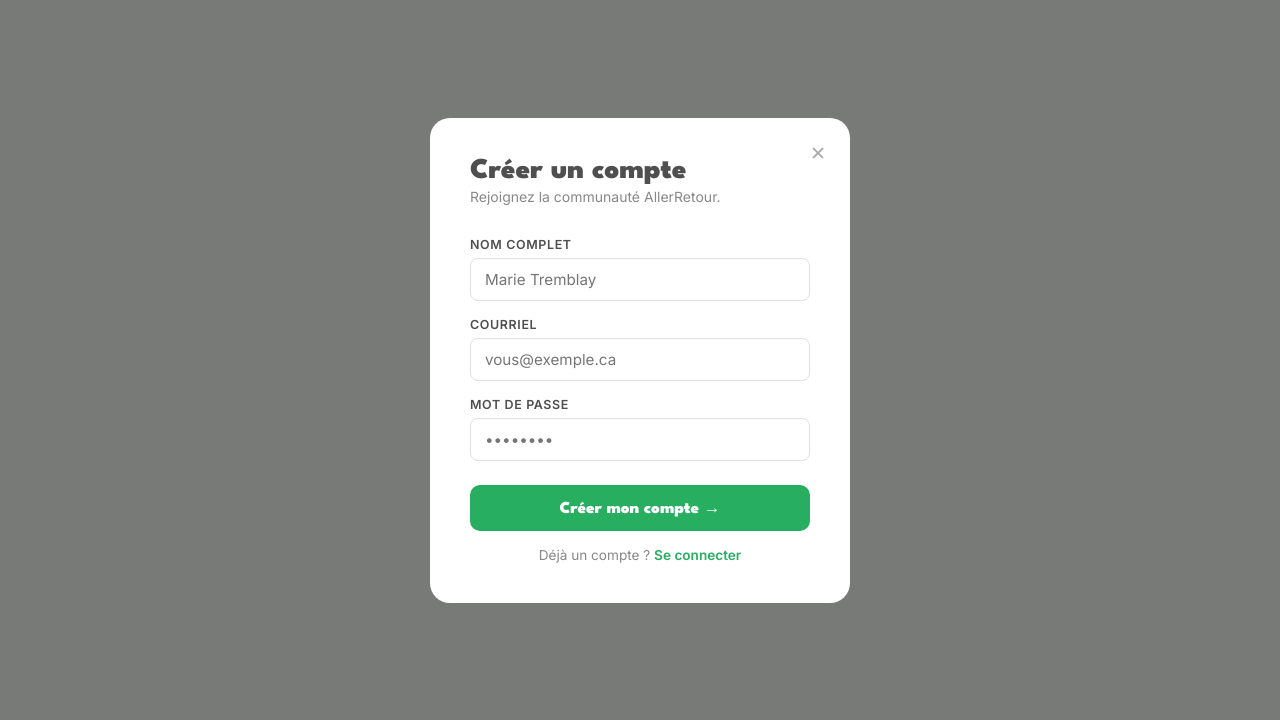
Test: AuthModal — mode inscription › affiche une erreur 409 "compte existe déjà"
Step 1. Type "Test" into the field labelled "Nom complet" → (640, 279), box [470,258,810,300]
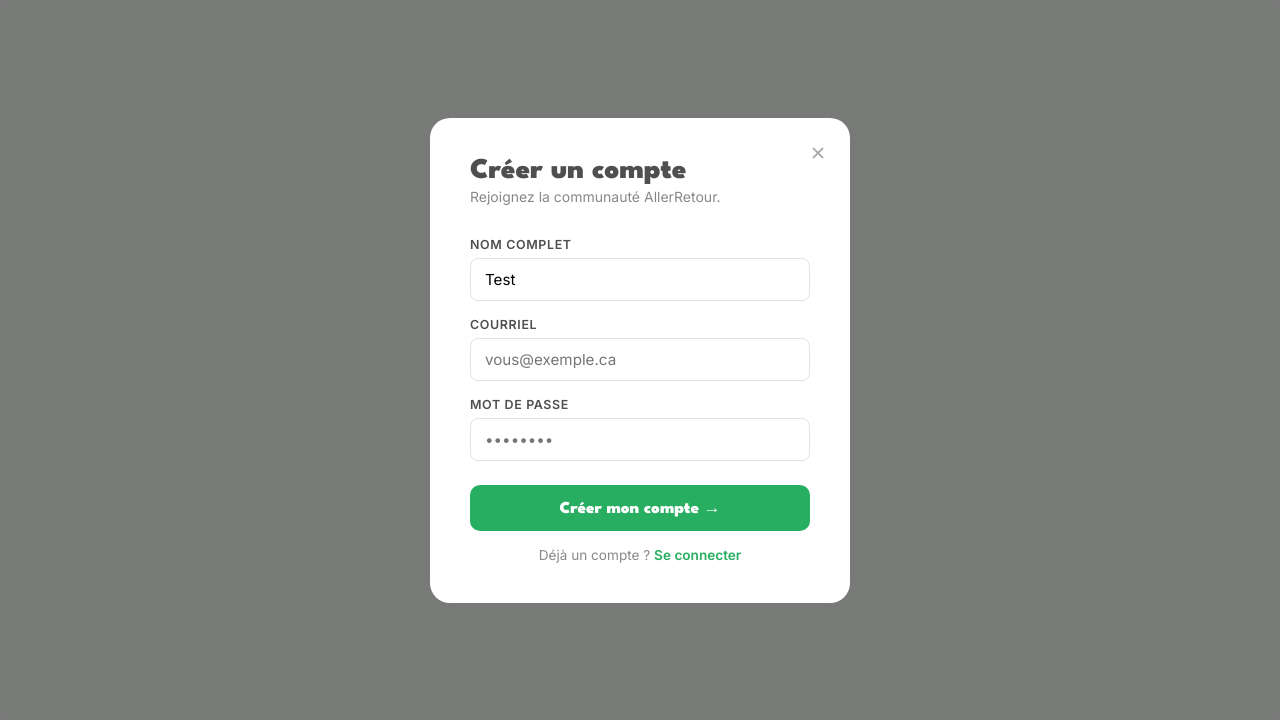
Step 2. Type "a@b.ca" into the field labelled "Courriel" → (640, 359), box [470,338,810,380]
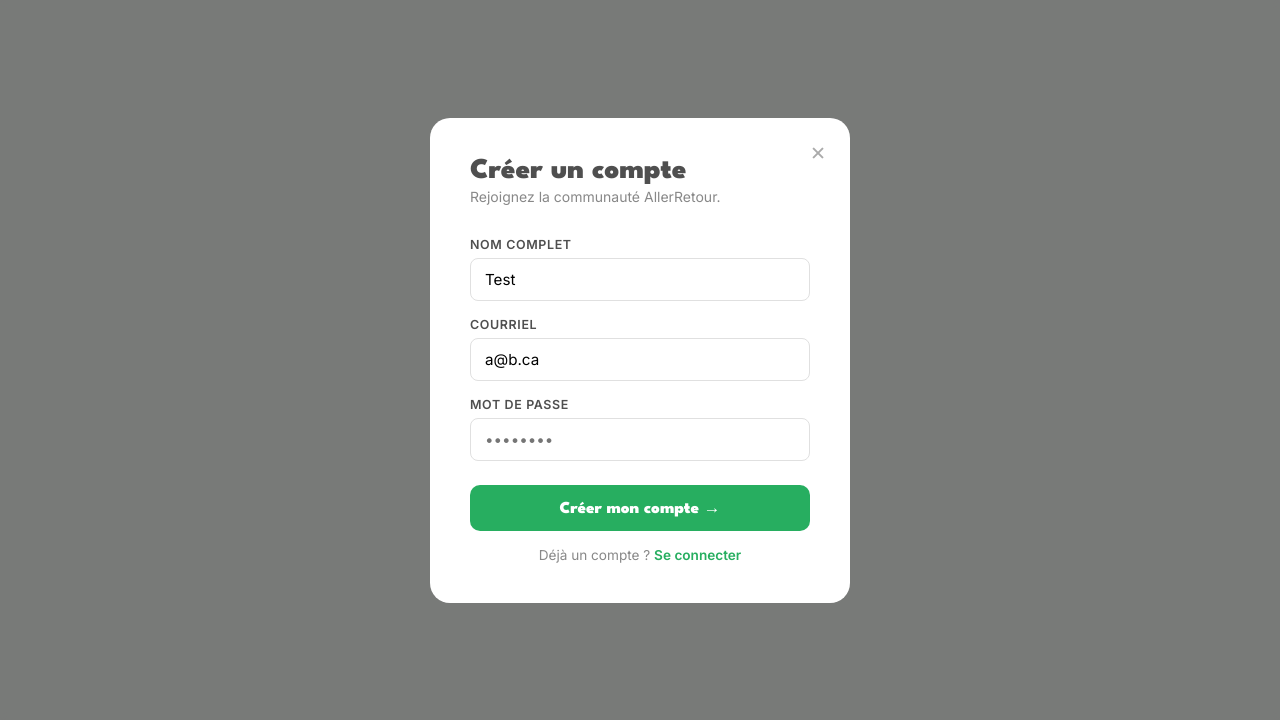
Step 3. Type "pass123" into the password field labelled "Mot de passe" → (640, 439), box [470,418,810,460]
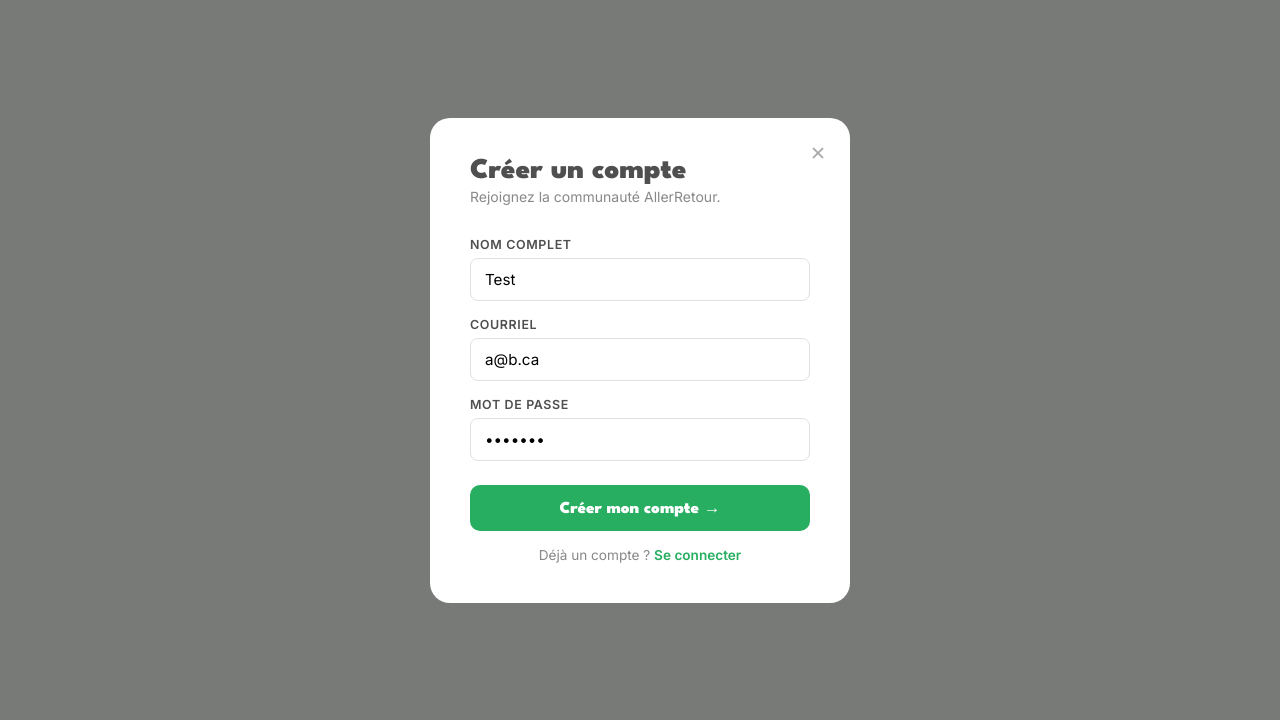
Step 4. Click the button "Créer mon compte →" → (640, 508), box [470,484,810,530]
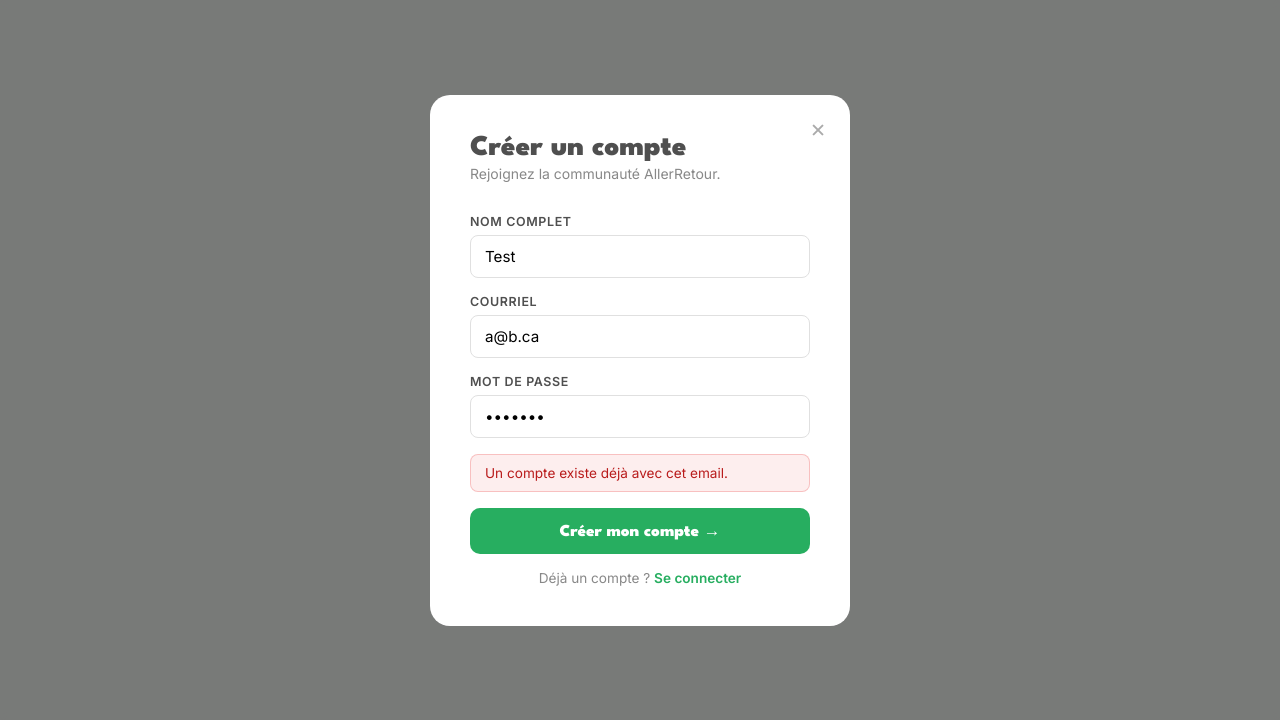
Expected: the text "Un compte existe déjà avec cet email." is shown, [470,454,810,492]
